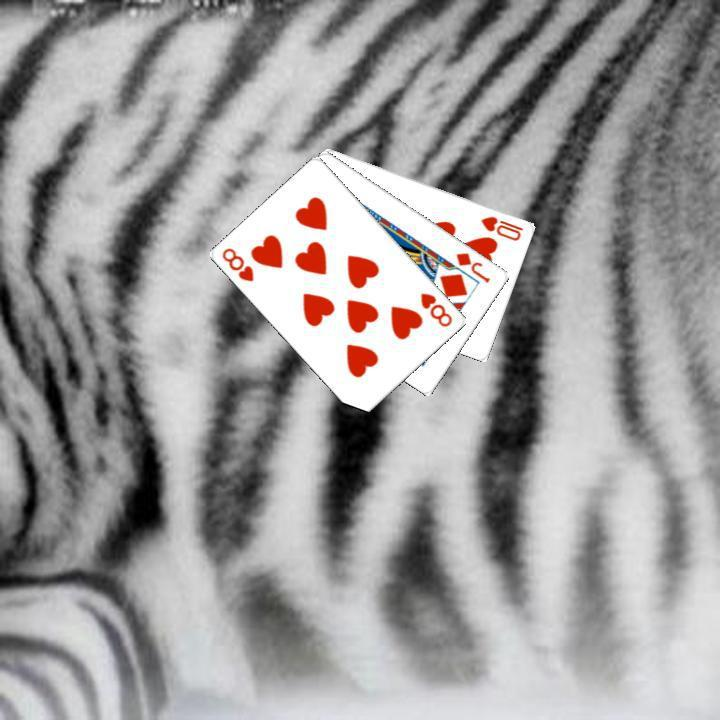10: (477, 212, 525, 243)
8: (416, 288, 455, 329), (218, 243, 256, 284)
J: (452, 248, 493, 285)
